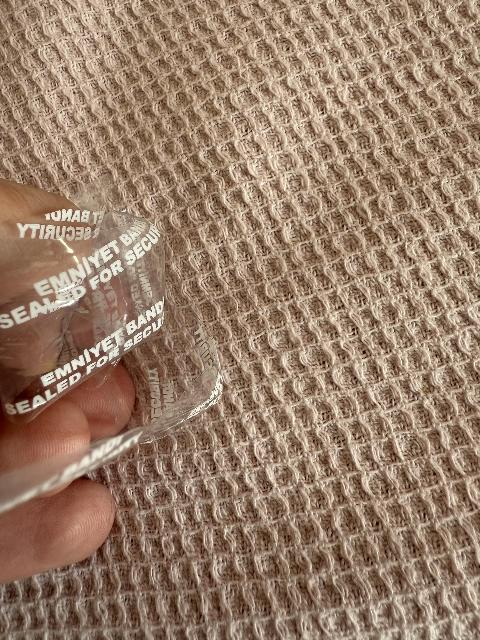Plastik: (0, 184, 257, 506)
